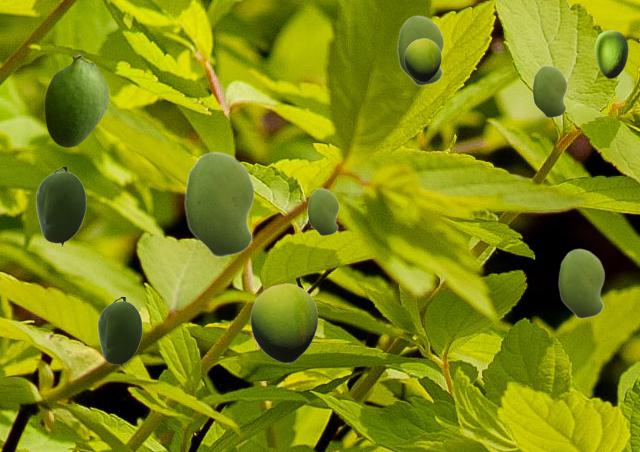green_mango: (184, 151, 254, 257), (44, 54, 108, 146), (250, 283, 317, 362), (35, 167, 85, 246), (397, 15, 443, 85), (558, 248, 604, 318), (97, 297, 141, 367), (532, 65, 566, 117), (594, 30, 627, 77), (404, 38, 440, 81), (307, 188, 338, 235)
